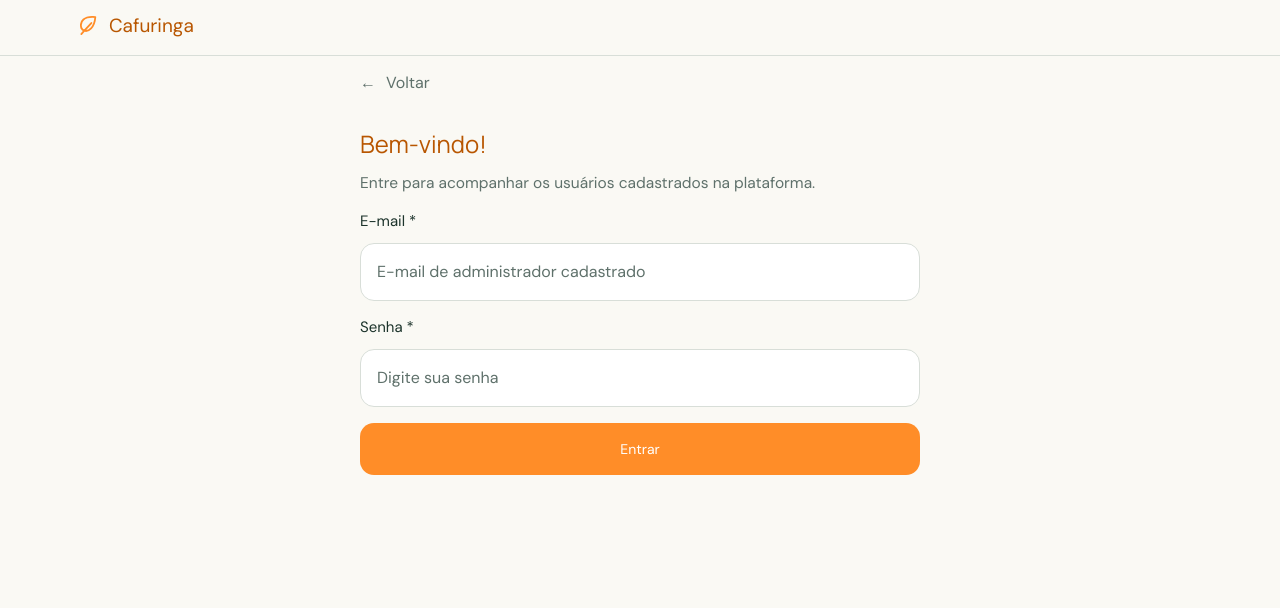
cadastro de administrador — HU03 › percorre escolha, formulário e confirmação do cadastro
This screenshot has width=1280, height=608.
In the field labelled "E-mail": (640, 272) [360, 243, 920, 301], type "admin@exemplo.com"
In the password field labelled "Senha": (640, 378) [360, 349, 920, 407], type "senha123"
Click the button "Entrar": (640, 449) [360, 423, 920, 475]
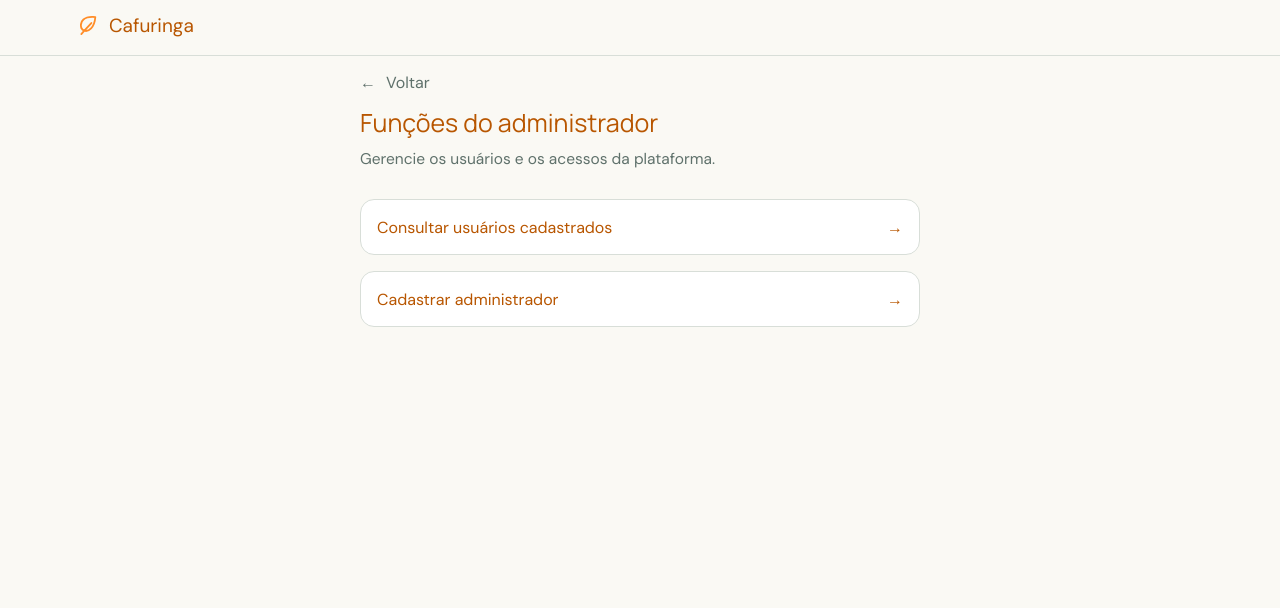
Expected: the heading "Funções do administrador" is shown, [360, 105, 658, 140]
Click the link "Cadastrar administrador →": (468, 299) [360, 271, 920, 327]
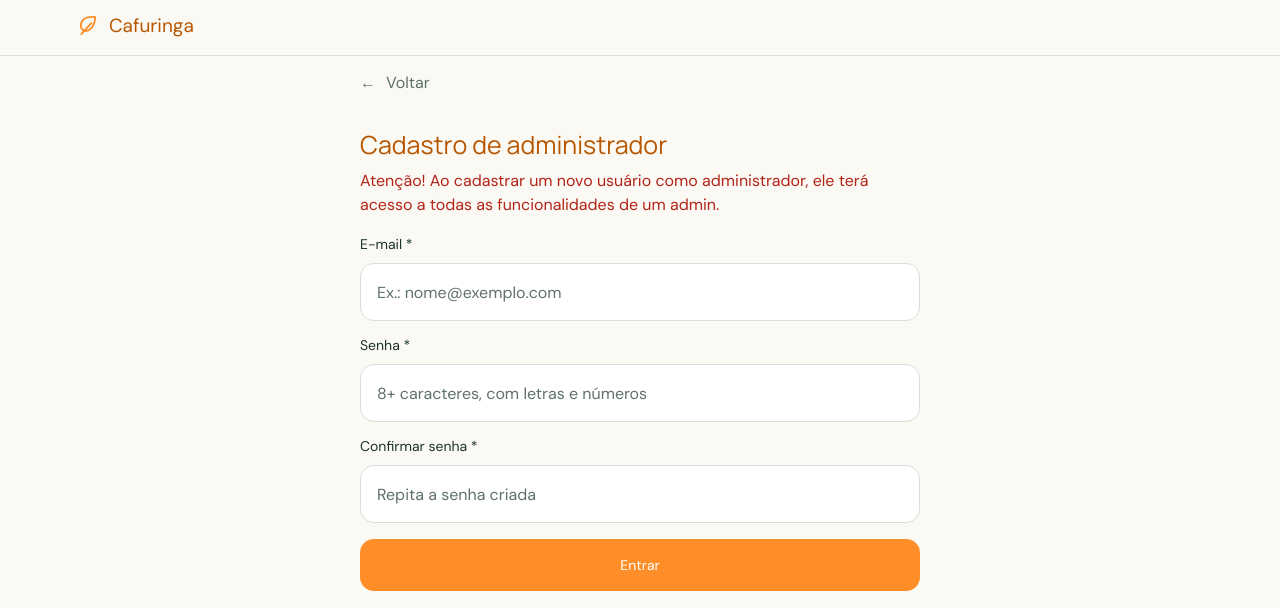
Expected: the heading "Cadastro de administrador" is shown, [360, 127, 667, 162]
In the field labelled "E-mail": (640, 292) [360, 263, 920, 321], type "Admin@Exemplo.com"
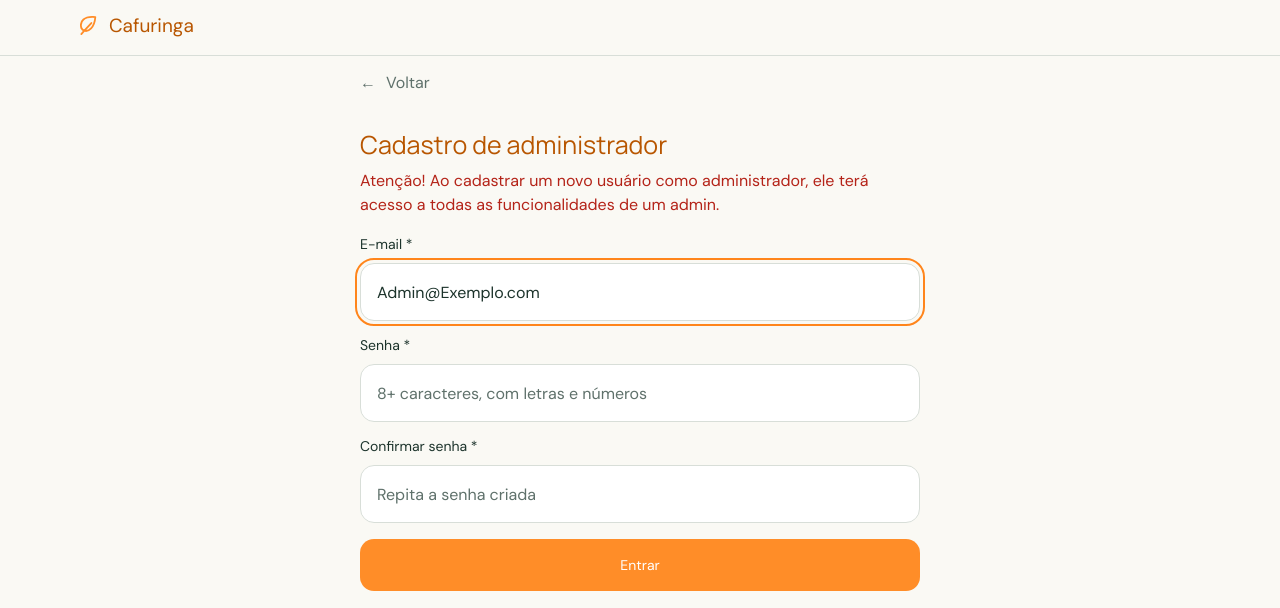
In the password field labelled "Senha": (640, 393) [360, 364, 920, 422], type "SenhaForte123"
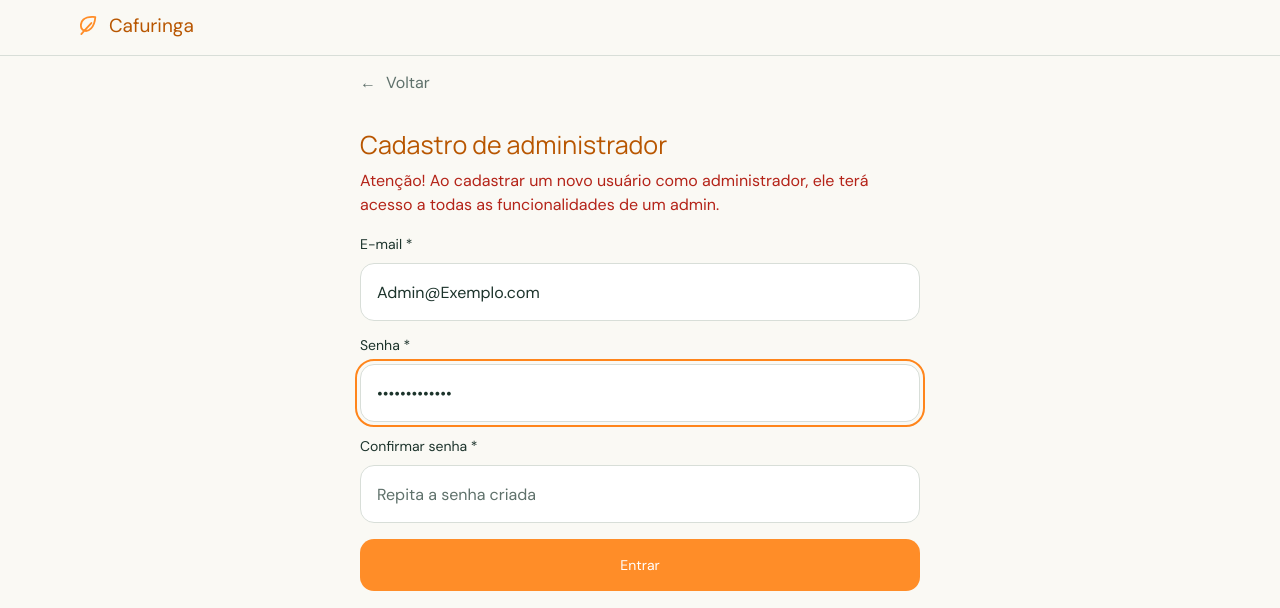
In the password field labelled "Confirmar senha": (640, 494) [360, 465, 920, 523], type "SenhaForte123"
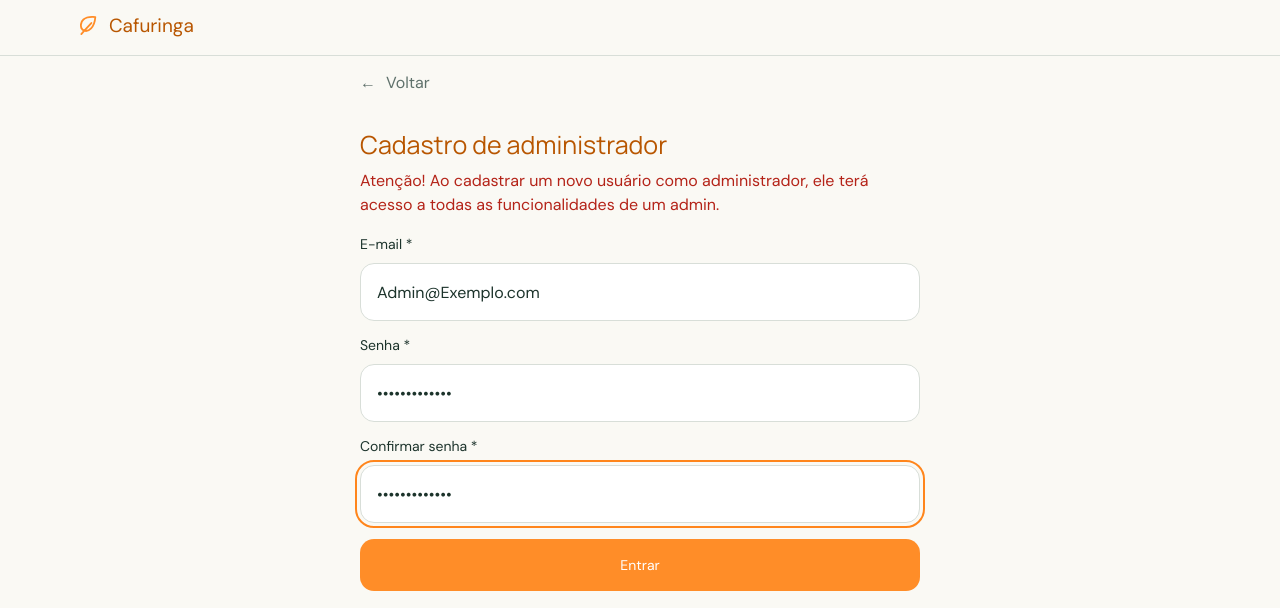
Click the button "Entrar": (640, 565) [360, 539, 920, 591]
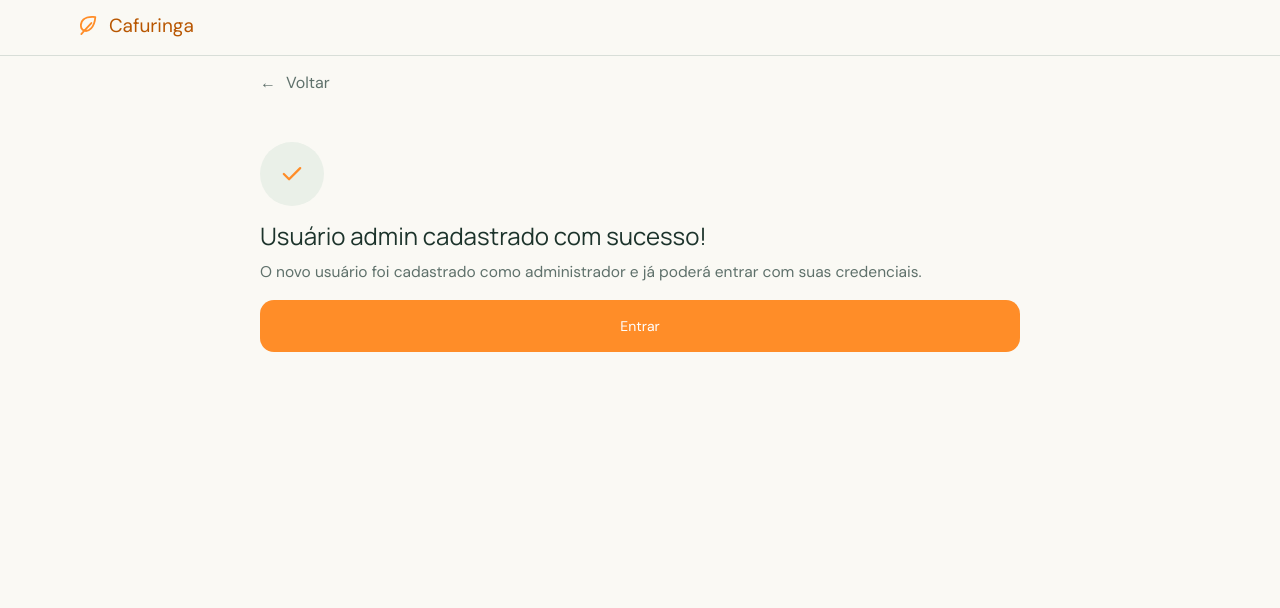
Expected: the heading "Usuário admin cadastrado com sucesso!" is shown, [260, 219, 707, 252]
